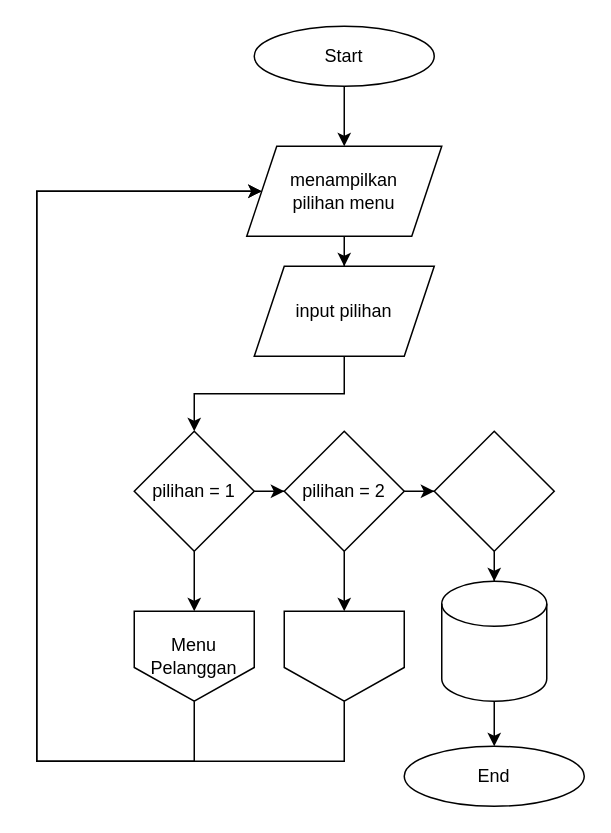
The diagram is 611 pixels wide and 833 high, and some of its shapes have lost their labels. Each missing label, with the box of its shape:
Menu Admin: (283, 610, 404, 701)
Menyimpan ke database: (440, 580, 547, 701)
pilihan = 3: (433, 430, 554, 551)
